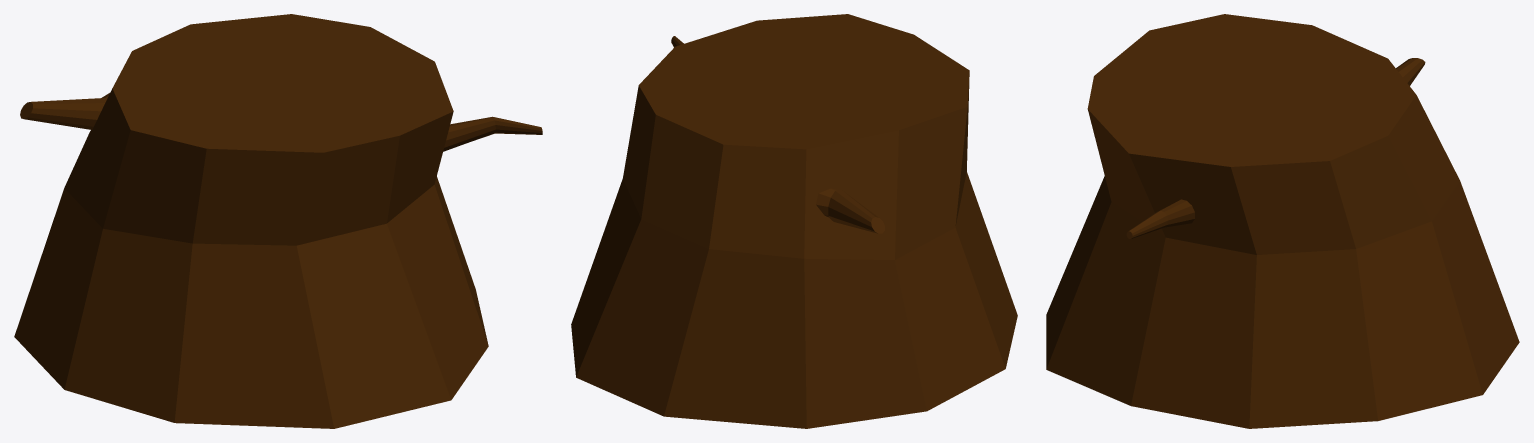
File: tree_stump_variant2.fbx
3 views of the same model, side by side, from view 1: azimuth 30°, elevation 25°; view 2: azimuth 150°, elevation 25°; view 3: azimuth 270°, elevation 25° (orthographic). The views are drawn at different scales.
Visible parts, largest first — view 1: Cylinder.001, Cylinder.002, Cylinder.004; view 2: Cylinder.001, Cylinder.002; view 3: Cylinder.001, Cylinder.004, Cylinder.002.
Part boxes in pixels (bbox=[...]): Cylinder.001: bbox=[14, 14, 488, 428]; Cylinder.002: bbox=[20, 93, 109, 129]; Cylinder.004: bbox=[443, 116, 542, 151]; Cylinder.001: bbox=[571, 14, 1017, 428]; Cylinder.002: bbox=[816, 188, 884, 233]; Cylinder.001: bbox=[1046, 14, 1519, 428]; Cylinder.004: bbox=[1126, 199, 1194, 238]; Cylinder.002: bbox=[1396, 58, 1425, 85].
Bounding box in the file's own units: 63.94 × 38.18 × 65.43.
